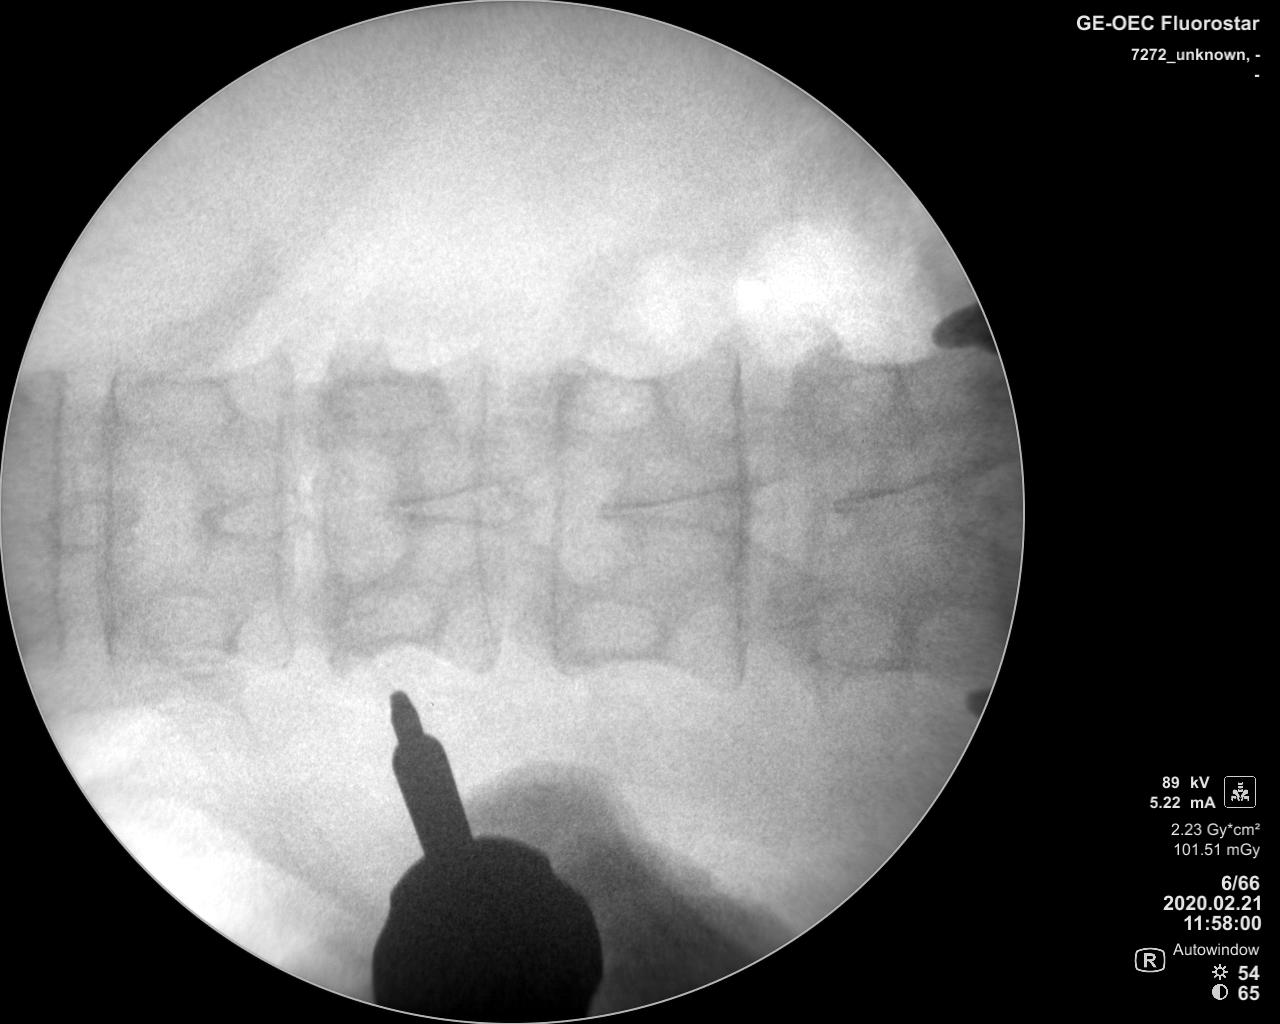eyes: (321, 356, 445, 443), (115, 589, 236, 670), (800, 588, 913, 674), (806, 344, 907, 436), (121, 365, 237, 444), (325, 581, 447, 655), (555, 359, 658, 439), (556, 594, 665, 667)
line: (466, 335, 510, 681), (719, 330, 758, 696), (310, 343, 351, 680), (534, 340, 571, 678), (265, 338, 302, 674), (91, 360, 126, 676), (44, 360, 74, 681)
nose: (589, 480, 757, 543), (825, 472, 978, 528), (385, 476, 528, 532), (188, 487, 306, 541), (24, 496, 147, 546)
